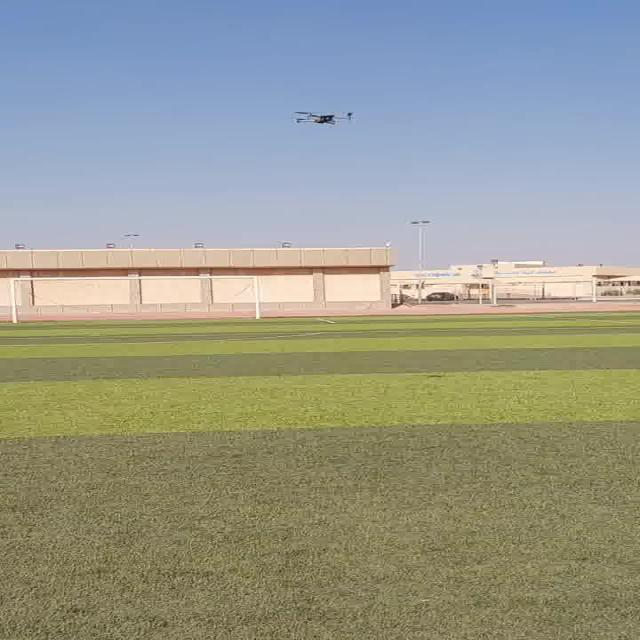drone: (284, 106, 362, 128)
